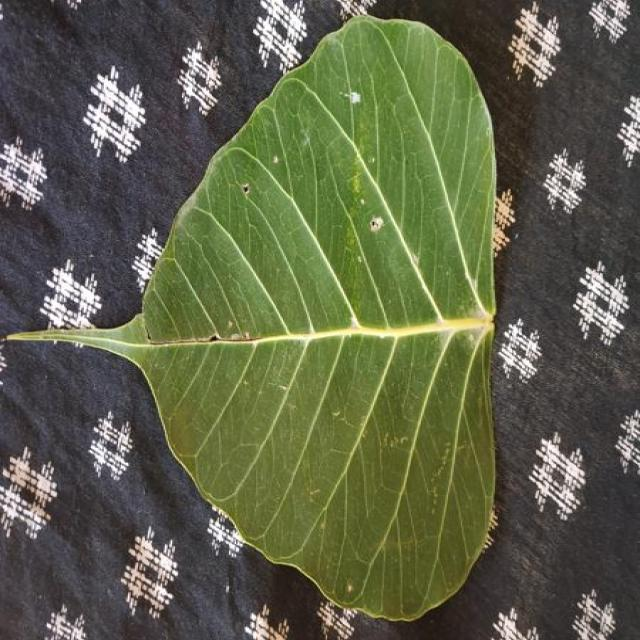arali: (10, 18, 495, 619)
defected arali: (10, 18, 495, 619)
